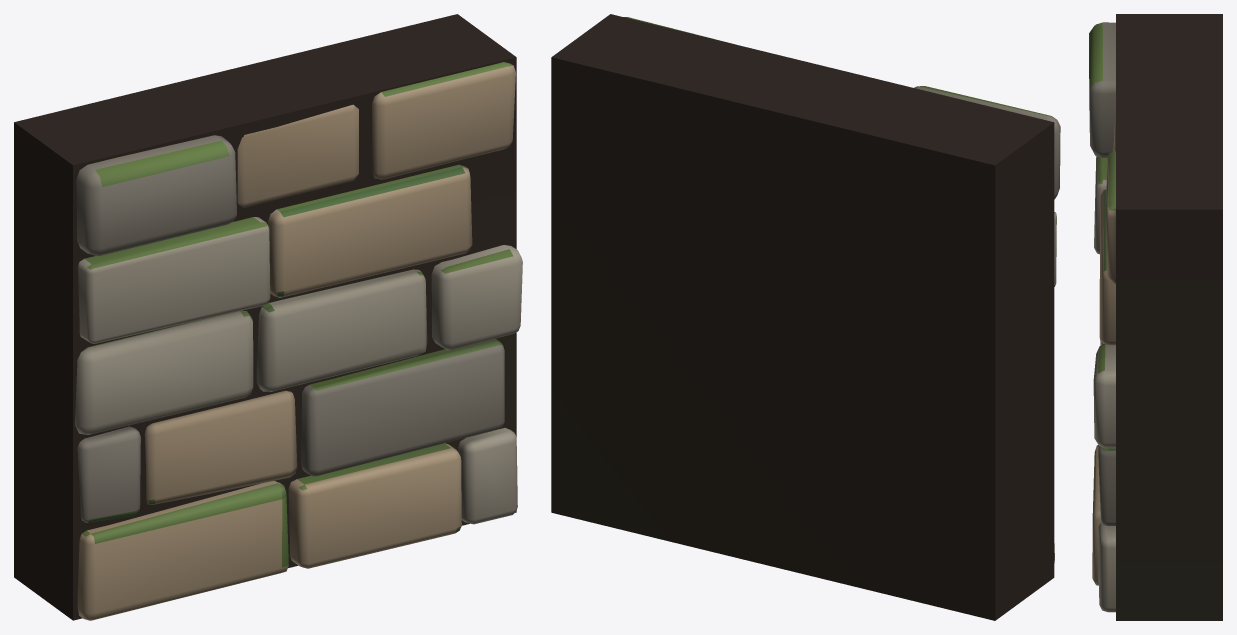
Rendered from kit_wall1.glb.
3 renders of one model, left to right at view 1: azimuth 30°, elevation 25°; view 2: azimuth 150°, elevation 25°; view 3: azimuth 270°, elevation 25°, orthographic. The views are drawn at different scales.
Parts seen in each view (by area): view 1: kit_wall1; view 2: kit_wall1; view 3: kit_wall1.
Part boxes in pixels (x1=…): kit_wall1: x1=14, y1=14, x2=522, y2=620; kit_wall1: x1=551, y1=14, x2=1060, y2=620; kit_wall1: x1=1089, y1=14, x2=1222, y2=620.
Bounding box in the file's own units: 1.04 × 1.02 × 0.3007.
